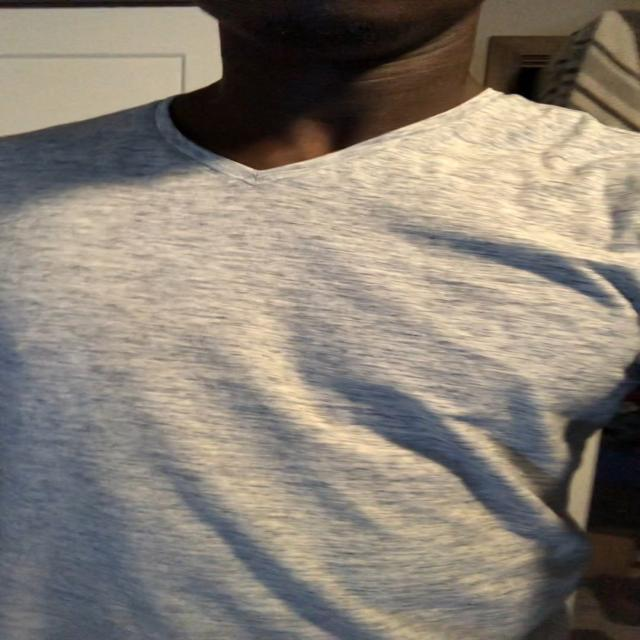face: (198, 0, 486, 47)
